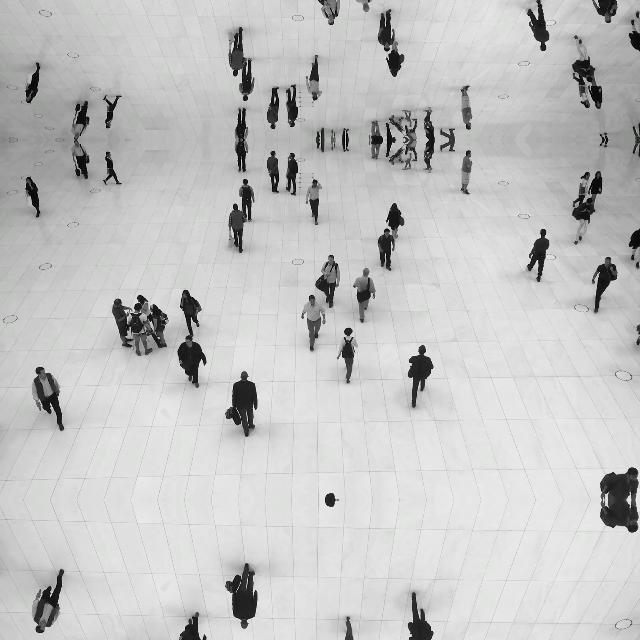person: (32, 366, 64, 432), (32, 568, 64, 634), (407, 344, 435, 408), (176, 335, 208, 389), (232, 371, 258, 437), (232, 563, 258, 629), (301, 294, 327, 352), (592, 256, 618, 314), (352, 268, 376, 324), (407, 592, 435, 640), (128, 303, 152, 357), (336, 328, 359, 384), (600, 468, 640, 500), (600, 500, 640, 532), (527, 0, 550, 52), (528, 228, 550, 282), (572, 197, 596, 245), (572, 35, 596, 83), (320, 255, 340, 309), (180, 290, 202, 338), (111, 298, 132, 348), (228, 203, 248, 253), (228, 27, 248, 77), (176, 611, 207, 640), (70, 140, 90, 180), (70, 100, 90, 140), (377, 228, 395, 272), (150, 304, 168, 348), (377, 8, 395, 52), (306, 179, 322, 225), (306, 55, 322, 101), (385, 203, 405, 239), (572, 171, 592, 207), (385, 41, 405, 77), (572, 73, 592, 109), (239, 178, 255, 222), (239, 58, 255, 102), (25, 176, 41, 218), (25, 62, 41, 104), (591, 0, 618, 24), (102, 151, 121, 185), (102, 95, 121, 129), (588, 170, 604, 210), (588, 70, 604, 110), (266, 86, 280, 130), (285, 84, 299, 128), (266, 150, 280, 193), (285, 152, 299, 195), (336, 615, 359, 640), (460, 150, 472, 194), (460, 86, 472, 130), (234, 140, 250, 172), (234, 108, 250, 140), (320, 0, 340, 25), (402, 140, 418, 170), (628, 228, 640, 268), (402, 110, 418, 140), (628, 12, 640, 52), (423, 140, 435, 172), (136, 294, 152, 318), (423, 108, 435, 140), (368, 140, 384, 160), (368, 120, 384, 140), (352, 0, 376, 12), (386, 140, 398, 158), (386, 122, 398, 140), (439, 140, 456, 152), (439, 128, 456, 140), (632, 140, 640, 156), (324, 492, 340, 500), (632, 124, 640, 140), (324, 500, 340, 508), (315, 140, 325, 152), (315, 128, 325, 140), (342, 140, 350, 152), (342, 128, 350, 140), (636, 324, 640, 346), (599, 140, 609, 148), (599, 132, 609, 140), (331, 140, 337, 150), (331, 130, 337, 140)
